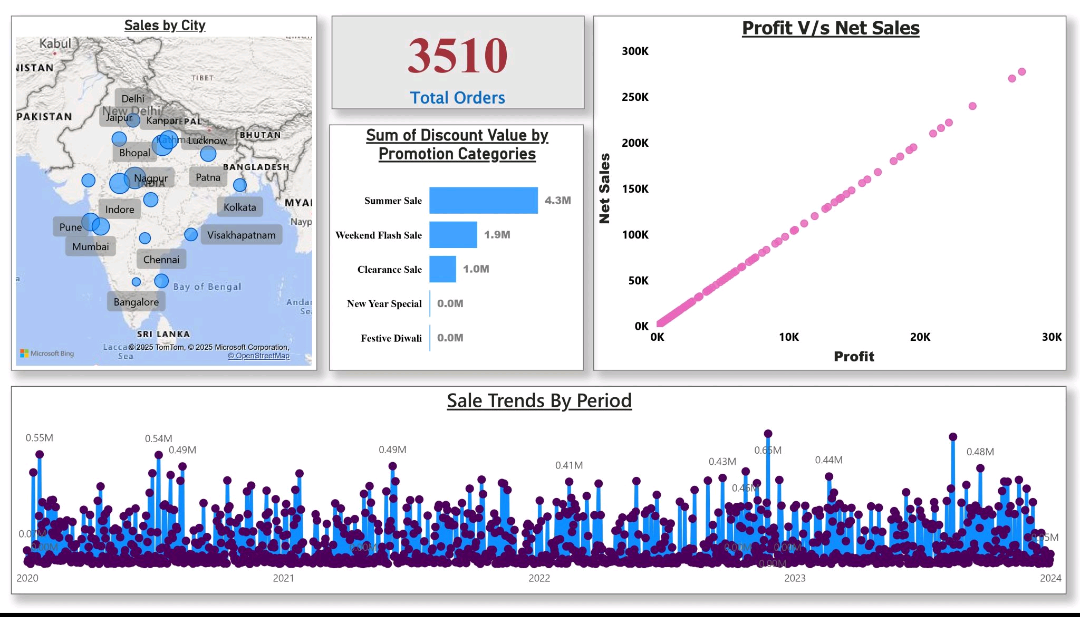

The dashboard page shown, as its layout file describes it:
{"tool":"powerbi","page":{"name":"Overview","canvas":[1280,720],"ordinal":0},"visuals":[{"type":"lineChart","title":"Sale Trends By Period","fields":{"Y":["select","Measures Table.sum of net sales"],"Category":["Facts data.Date "]},"box":[13.5,456.1,1251,247],"z":0},{"type":"scatterChart","title":"Profit V/s Net Sales","fields":{"X":["Facts data.Profit"],"Y":["Facts data.Net Sales"]},"box":[703.1,17.1,561.3,420.7],"z":1000},{"type":"barChart","title":"Sum of Discount Value  by Promotion Categories","fields":{"Y":["Facts data.Discount Value "],"Category":["Dim Promotion.Promotion Name"]},"box":[390.1,145.5,302,292.3],"z":2000},{"type":"map","fields":{"Category":["Dim Customers.City"],"Size":["Facts data.Net Sales"]},"box":[13.5,17.1,363.2,420.7],"z":3000},{"type":"card","fields":{"Values":["Facts data.Order ID"]},"box":[392.5,17.1,299.6,111.3],"z":4000}]}

Visuals, with their boxes in screenshot pixels (x1, y1, x2, y2), scaled from the page's 1280x720 canvas onto the 1080x617 screenshot:
"Sale Trends By Period" lineChart: bbox(11, 391, 1067, 603)
"Profit V/s Net Sales" scatterChart: bbox(593, 15, 1067, 375)
"Sum of Discount Value  by Promotion Categories" barChart: bbox(329, 125, 584, 375)
map - Dim Customers.City x Facts data.Net Sales: bbox(11, 15, 318, 375)
card - Facts data.Order ID: bbox(331, 15, 584, 110)
